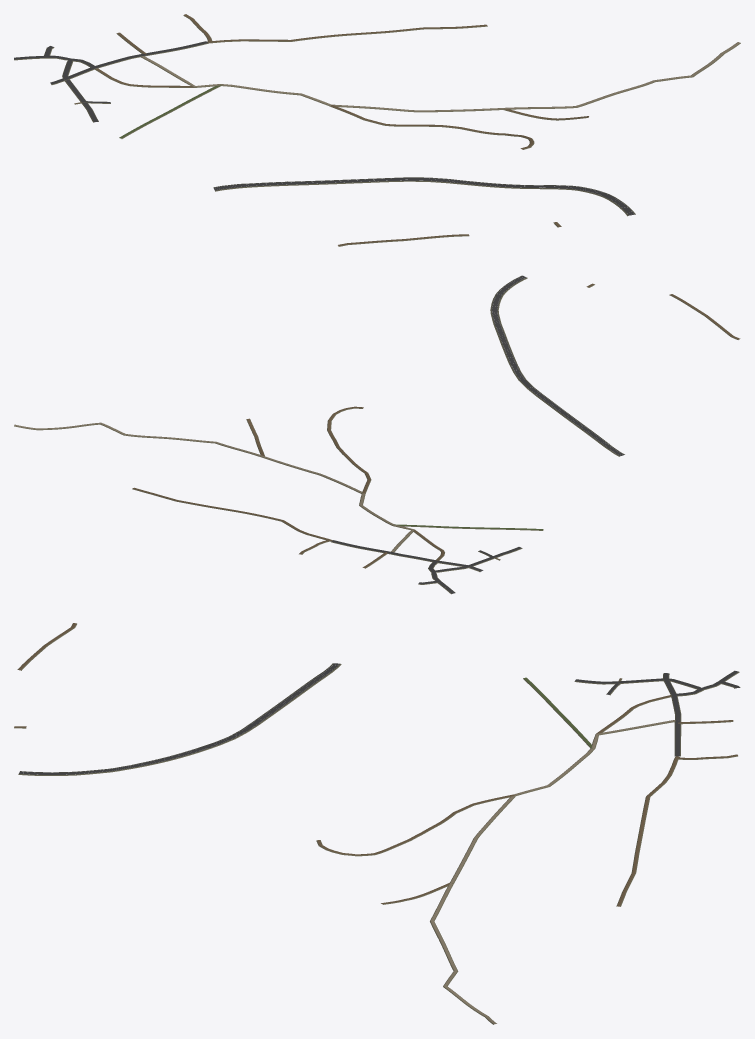
3 renders of one model, top to bottom at view 1: azimuth 30°, elevation 25°; view 2: azimuth 150°, elevation 25°; view 3: azimuth 270°, elevation 25°, orthographic. The views are drawn at different scales.
Parts seen in each view (by area): view 1: roads; view 2: roads; view 3: roads.
Boxes of the visible parts, bbox=[...] form: roads: bbox=[14, 14, 740, 246]; roads: bbox=[14, 275, 740, 594]; roads: bbox=[14, 623, 740, 1024].
Size of the model in its own units: 808 by 130 by 810.
